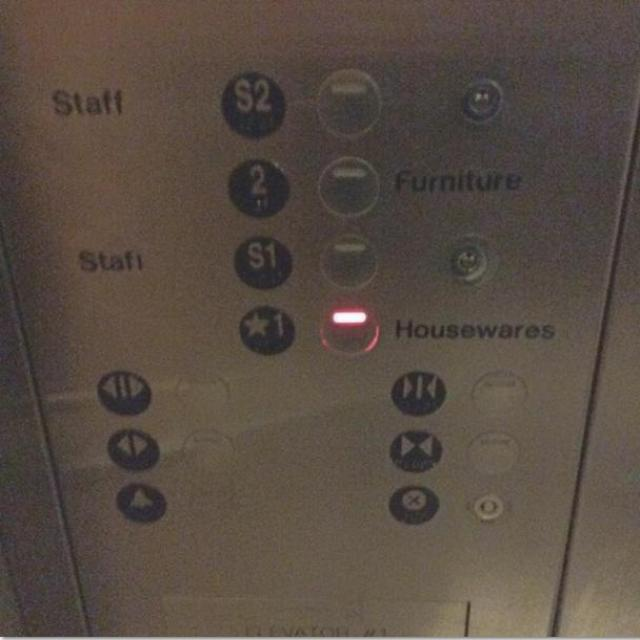2: (226, 155, 290, 216)
S1: (232, 234, 290, 290)
S2: (216, 68, 286, 139)
alarm: (113, 478, 166, 522)
close: (390, 367, 448, 418), (388, 428, 443, 472)
empty: (316, 67, 381, 139), (316, 154, 379, 218), (318, 233, 378, 290), (317, 302, 378, 355), (469, 370, 526, 419), (172, 371, 228, 419), (178, 476, 234, 524), (178, 428, 234, 474), (466, 430, 520, 474)
keyhole: (439, 234, 496, 286), (457, 76, 503, 122), (466, 489, 508, 525)
open: (92, 366, 152, 414), (104, 426, 160, 472)
s1: (237, 303, 295, 355)
stop: (386, 481, 441, 525)
